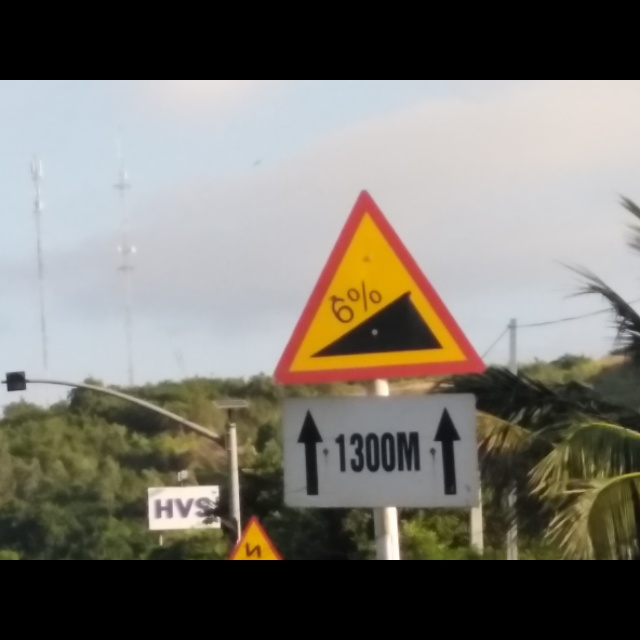Dốc lên nguy hiểm: (269, 181, 487, 386)
